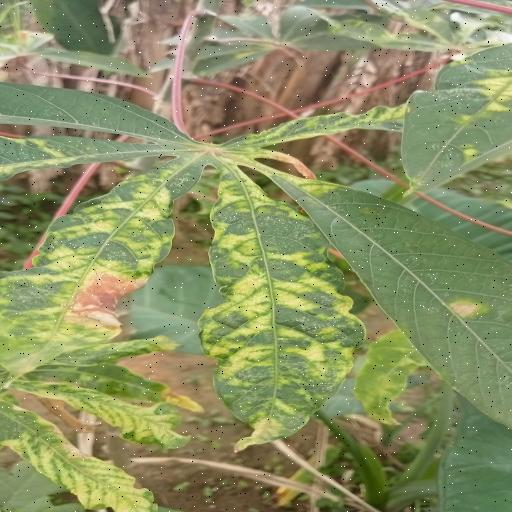Cassava_Mosaic: (0, 77, 512, 456)
